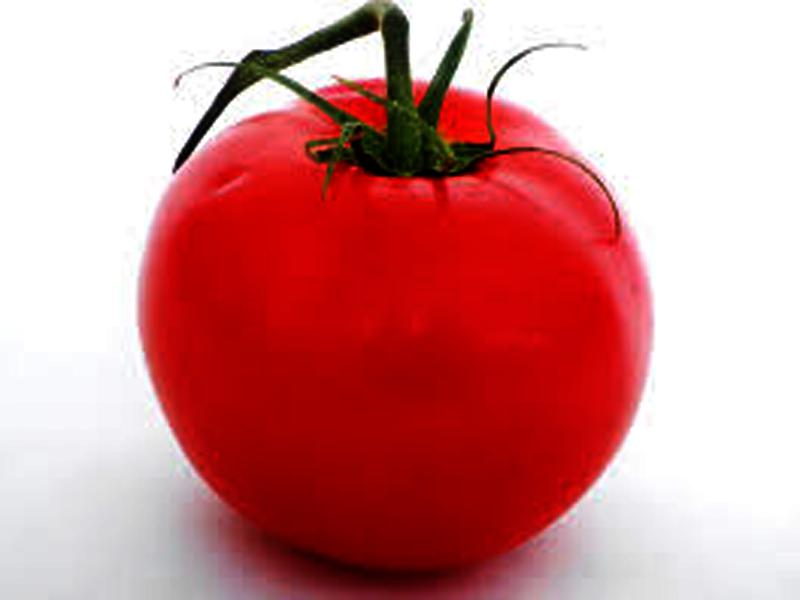Tomato: (142, 82, 658, 575)
